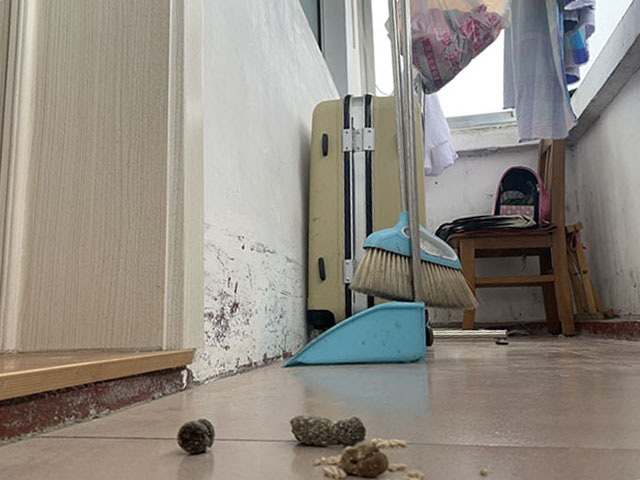feces: (291, 413, 367, 448), (340, 443, 389, 478), (175, 417, 217, 455)
stool: (456, 133, 574, 338)
